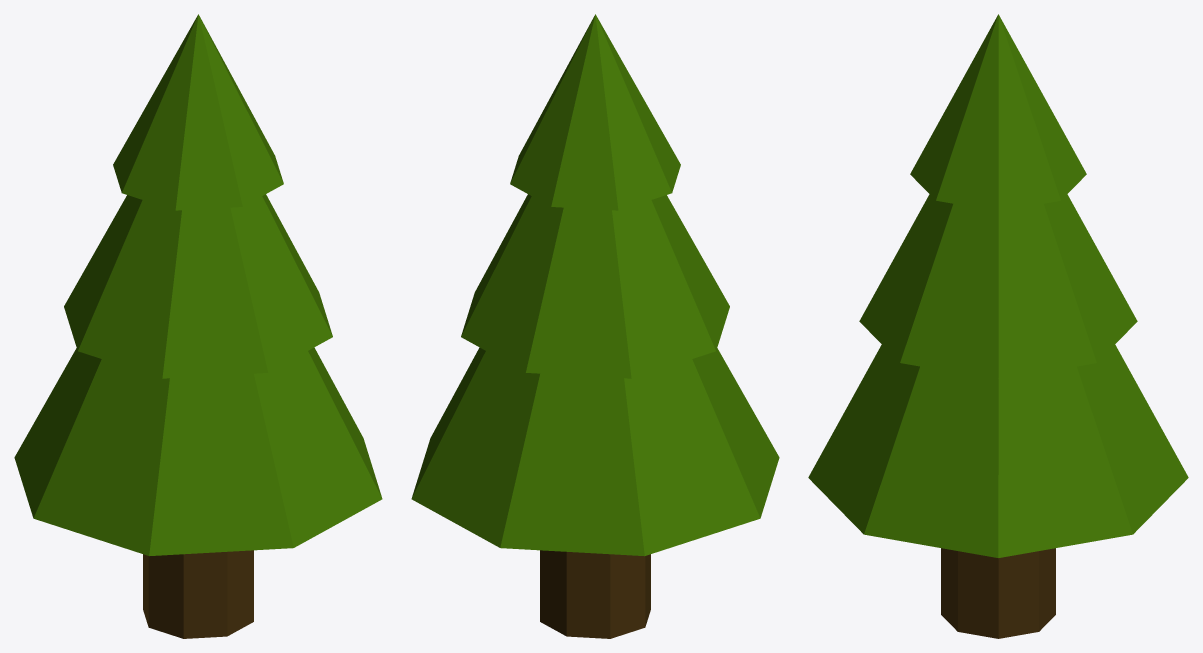
The model's file is Tree4.fbx.
3 views of the same model, side by side, from view 1: azimuth 30°, elevation 25°; view 2: azimuth 150°, elevation 25°; view 3: azimuth 270°, elevation 25° (orthographic).
Visible parts, largest first — view 1: Cone, Cone.001, Cone.002, Cylinder; view 2: Cone, Cone.001, Cone.002, Cylinder; view 3: Cone, Cone.001, Cone.002, Cylinder.
Boxes of the visible parts, left/top/right/bottom form: Cone: left=14, top=347, right=382, bottom=556; Cone.001: left=64, top=194, right=332, bottom=378; Cone.002: left=113, top=14, right=283, bottom=210; Cylinder: left=143, top=550, right=253, bottom=638; Cone: left=411, top=347, right=779, bottom=556; Cone.001: left=461, top=194, right=729, bottom=378; Cone.002: left=510, top=14, right=680, bottom=210; Cylinder: left=540, top=550, right=650, bottom=638; Cone: left=808, top=344, right=1188, bottom=557; Cone.001: left=859, top=194, right=1137, bottom=380; Cone.002: left=910, top=14, right=1086, bottom=211; Cylinder: left=941, top=548, right=1055, bottom=638.
Size of what is drawn, in the model's own units: 417 by 727 by 417.
